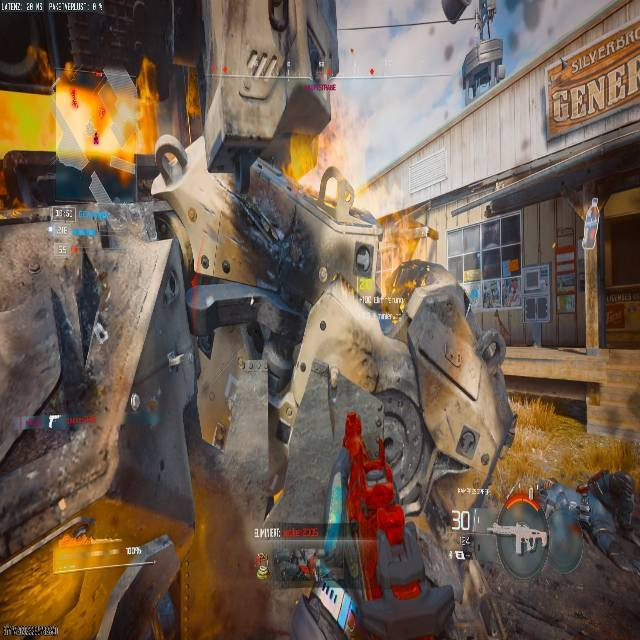player: (146, 48, 519, 640), (439, 0, 516, 102)
